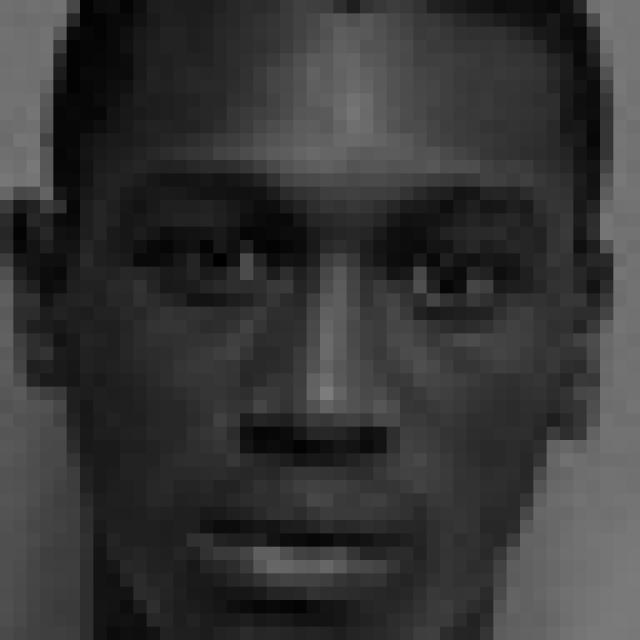neutral: (127, 155, 558, 622)
